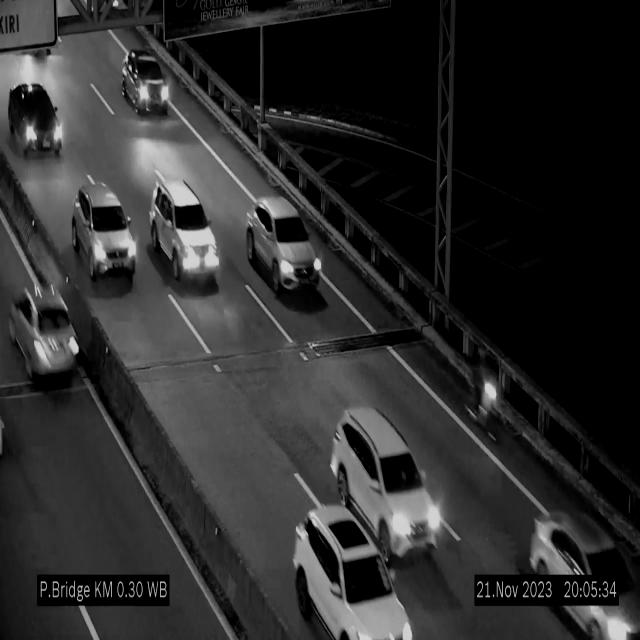Car: (526, 496, 640, 640), (331, 408, 437, 562), (294, 509, 412, 639), (6, 280, 83, 386), (149, 182, 220, 286), (246, 198, 322, 294), (72, 183, 138, 284), (6, 75, 66, 157), (121, 50, 170, 114)
Motorcycle: (467, 346, 501, 446)
